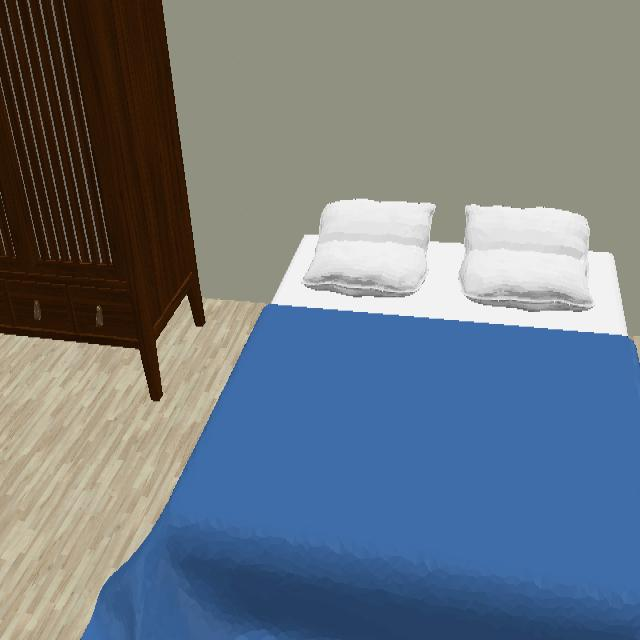bed: (79, 199, 640, 640)
pillow: (458, 205, 594, 312), (302, 199, 436, 301)
